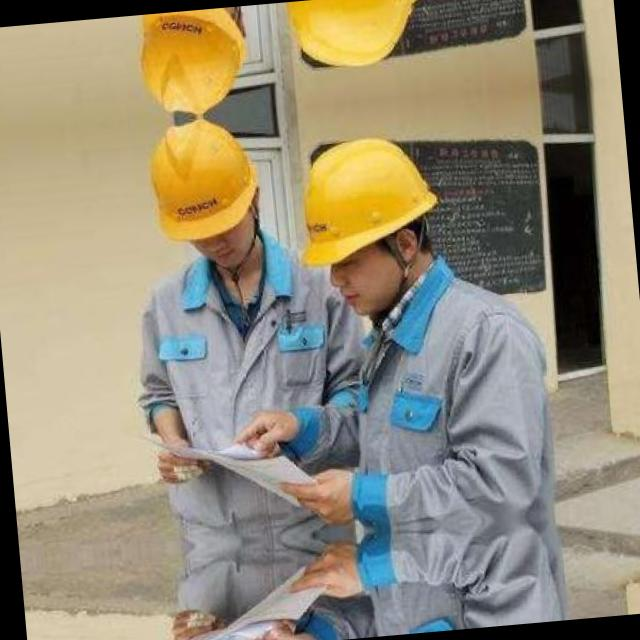helmet: (279, 119, 461, 327), (130, 110, 279, 284), (120, 4, 266, 124), (267, 0, 441, 86)
